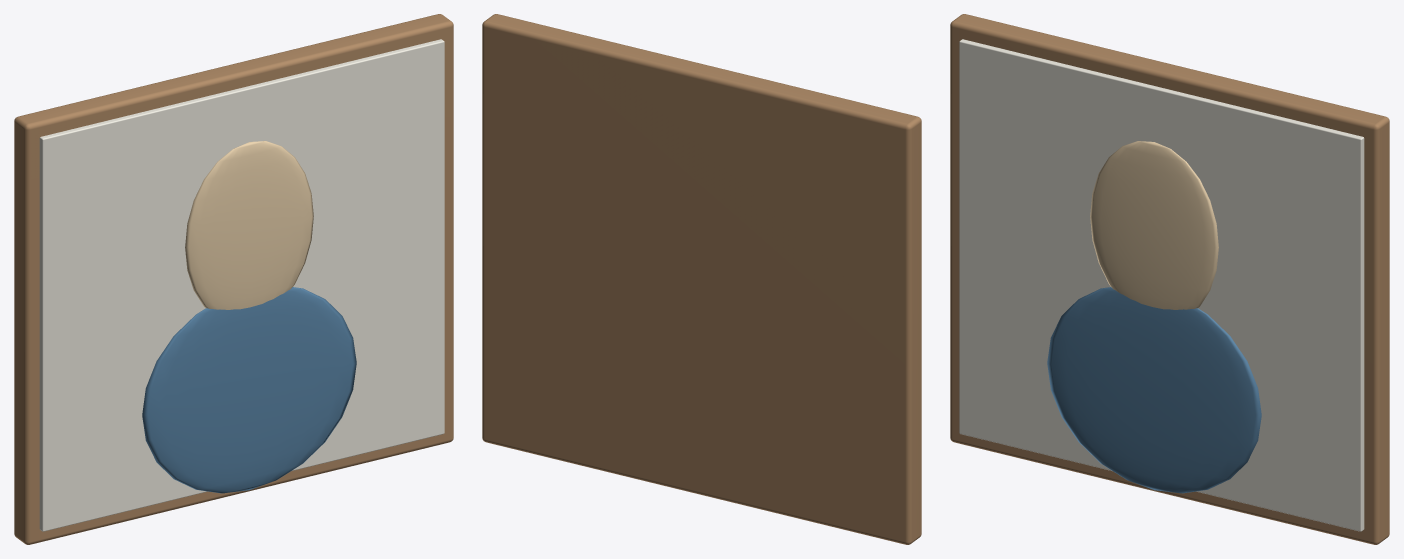
Rendered from atelier-portrait-painting.glb.
The picture shows the model from 3 angles, left to right: view 1: azimuth 30°, elevation 25°; view 2: azimuth 150°, elevation 25°; view 3: azimuth 330°, elevation 25°; orthographic projection.
Visible parts, largest first — view 1: ceramic.023, artBlue.006, legs.115, accent.016; view 2: legs.115; view 3: ceramic.023, artBlue.006, legs.115, accent.016.
Part boxes in pixels (x1,y1,x2,y2): ceramic.023: [39, 39, 444, 531]; artBlue.006: [142, 287, 356, 493]; legs.115: [14, 14, 453, 544]; accent.016: [185, 141, 313, 309]; legs.115: [482, 14, 921, 544]; ceramic.023: [959, 39, 1364, 531]; artBlue.006: [1047, 287, 1261, 493]; legs.115: [950, 14, 1389, 544]; accent.016: [1090, 141, 1218, 309].
Size of the model in its own units: 0.8 by 0.75 by 0.0825.
